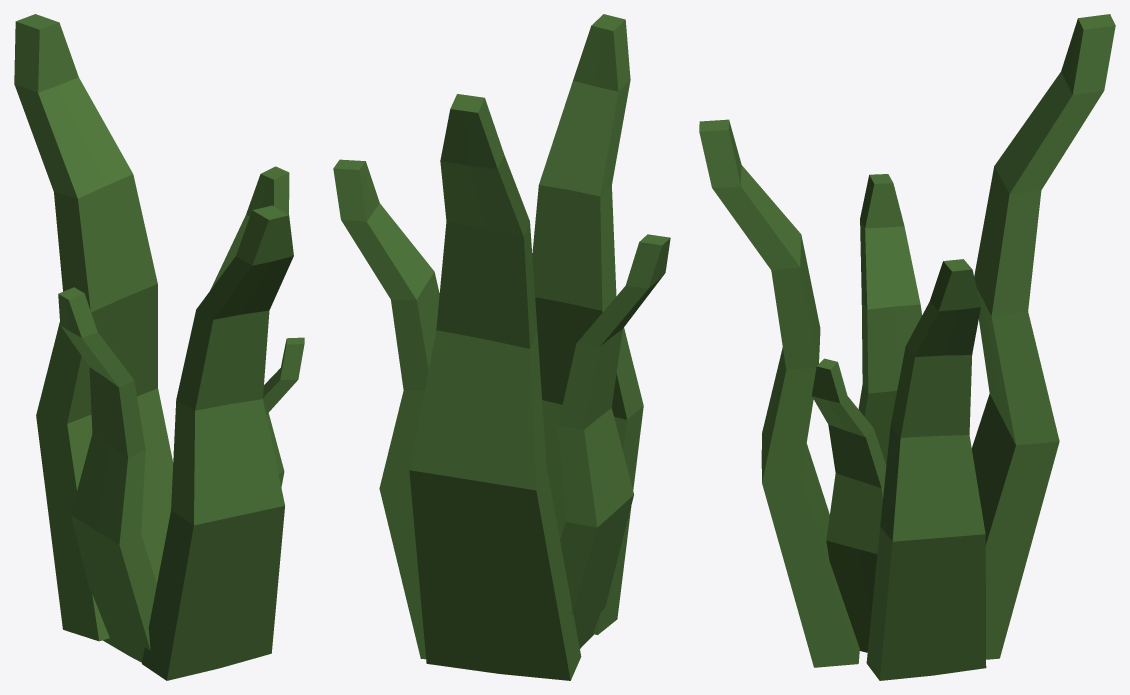
File: grass_03.fbx
The picture shows the model from 3 angles, left to right: view 1: azimuth 30°, elevation 25°; view 2: azimuth 150°, elevation 25°; view 3: azimuth 270°, elevation 25°; orthographic projection. The views are drawn at different scales.
Visible parts, largest first — view 1: Plane.009, Plane.007, Plane.010, Plane.011, Plane.012; view 2: Plane.007, Plane.009, Plane.010, Plane.011; view 3: Plane.011, Plane.007, Plane.009, Plane.012, Plane.010.
Part boxes in pixels (box(x1,y1,x2,y2)): Plane.009: box(142, 205, 293, 680); Plane.007: box(14, 14, 173, 641); Plane.010: box(58, 287, 156, 662); Plane.011: box(210, 166, 289, 487); Plane.012: box(263, 337, 304, 414); Plane.007: box(409, 94, 581, 680); Plane.009: box(532, 14, 643, 634); Plane.010: box(557, 234, 670, 648); Plane.011: box(333, 159, 439, 659); Plane.011: box(866, 259, 986, 680); Plane.007: box(971, 14, 1115, 659); Plane.009: box(699, 119, 859, 667); Plane.012: box(811, 358, 886, 652); Plane.010: box(858, 174, 921, 464).
Size of the model in its own units: 563 by 1164 by 732.
